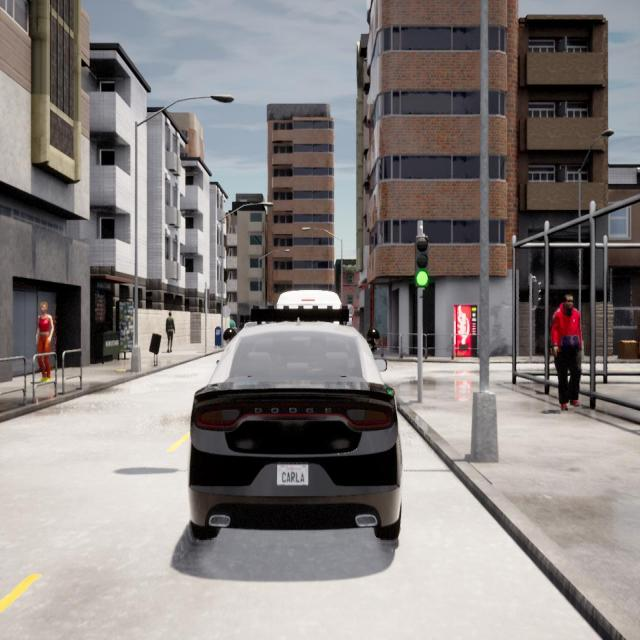Pedestrian: (552, 294, 584, 414), (36, 300, 54, 382), (165, 311, 175, 352)
Vehicle: (189, 323, 401, 539), (279, 290, 340, 308)
traffic_light: (416, 235, 427, 288), (532, 279, 542, 306)
